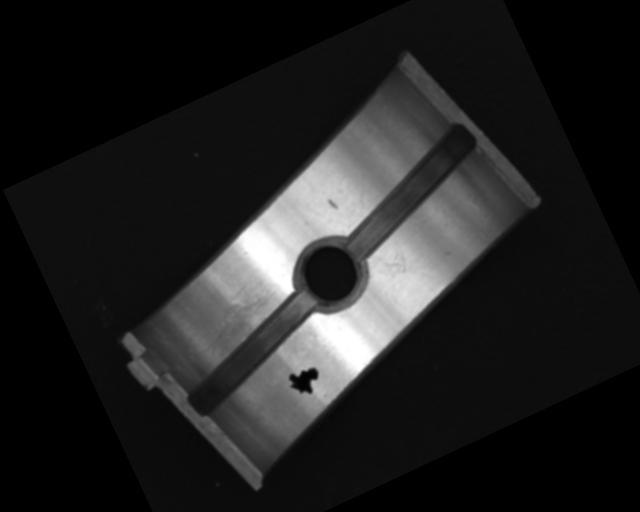blot: (283, 362, 326, 402)
bruise: (325, 196, 338, 213)
gap: (320, 122, 498, 262), (167, 288, 340, 419)
hole: (288, 232, 375, 321)
scratch: (185, 281, 293, 365)
